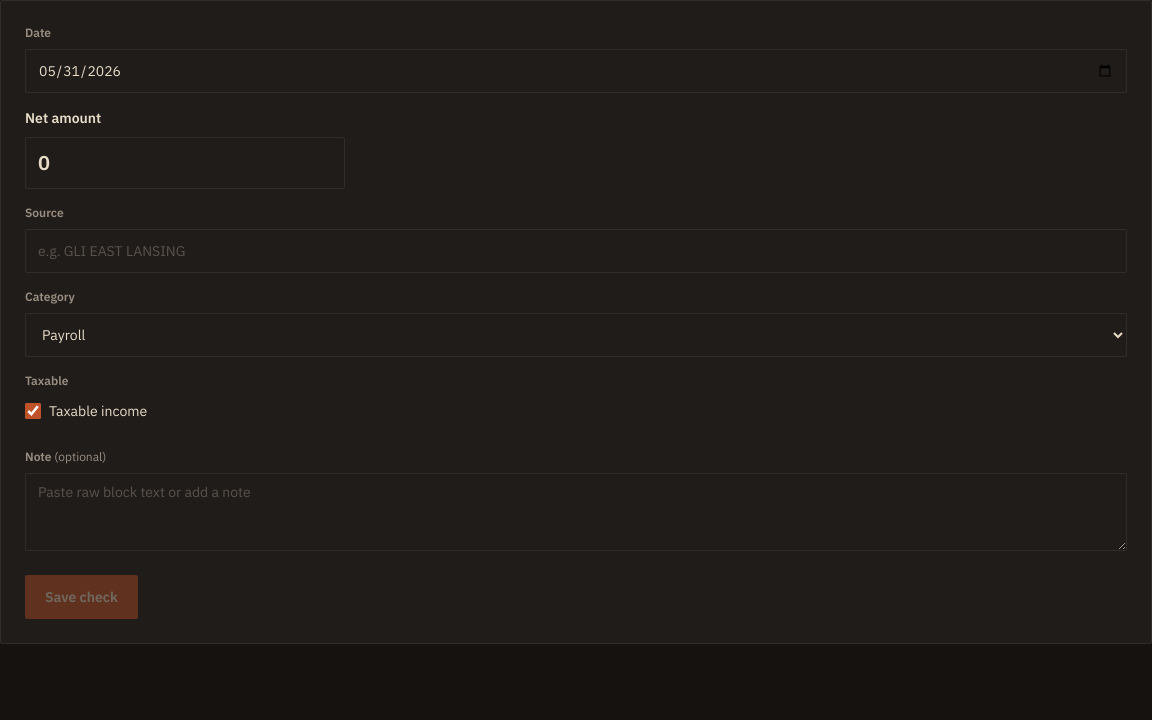
Scenario: CheckEntryForm › shows "Check saved." toast after successful save
Replace the text in the number field labelled "Net amount" with "1000": [185, 163] box [25, 137, 345, 189]
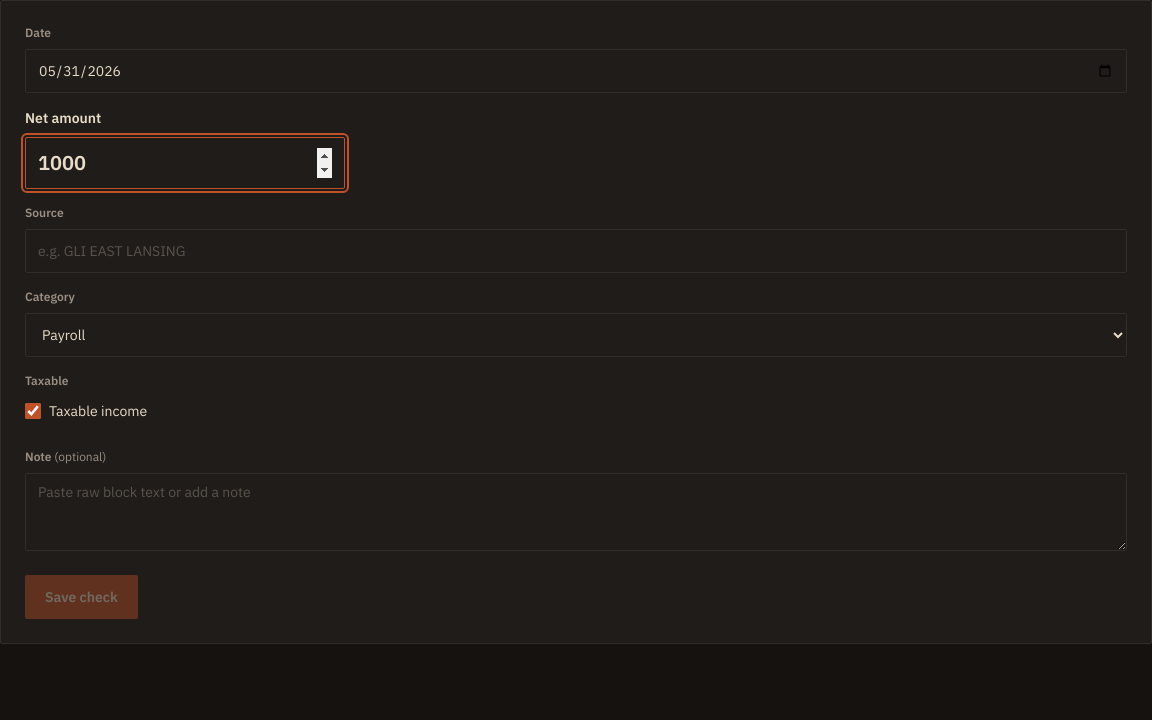
In the field labelled "Source": [576, 251] box [25, 229, 1127, 273], type "TEST SOURCE"
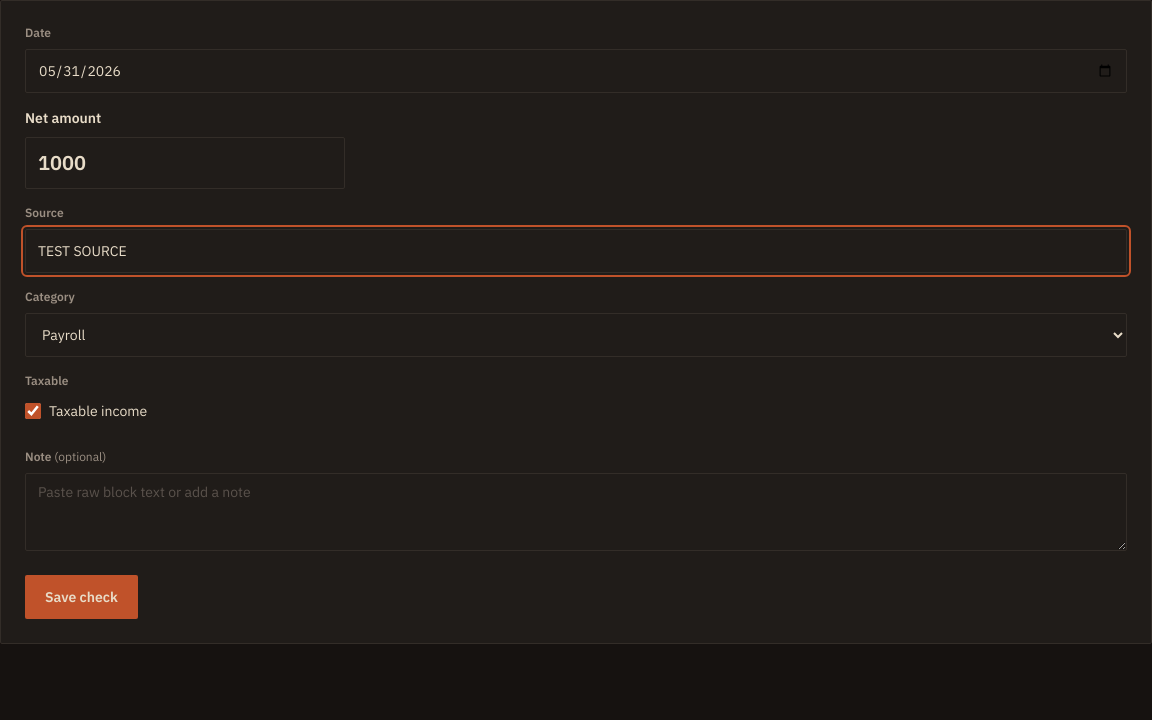
Click the button "Save check": [81, 597] box [25, 575, 138, 619]
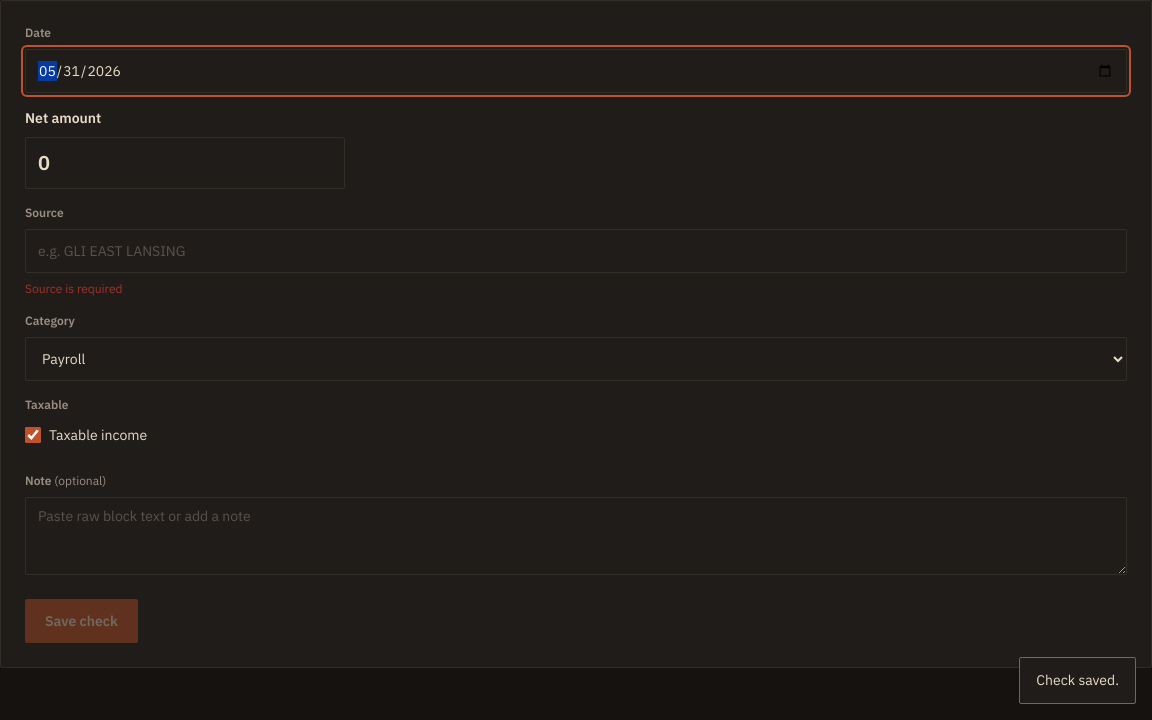
Expected: the text "Check saved." is shown, [1019, 657, 1136, 704]
